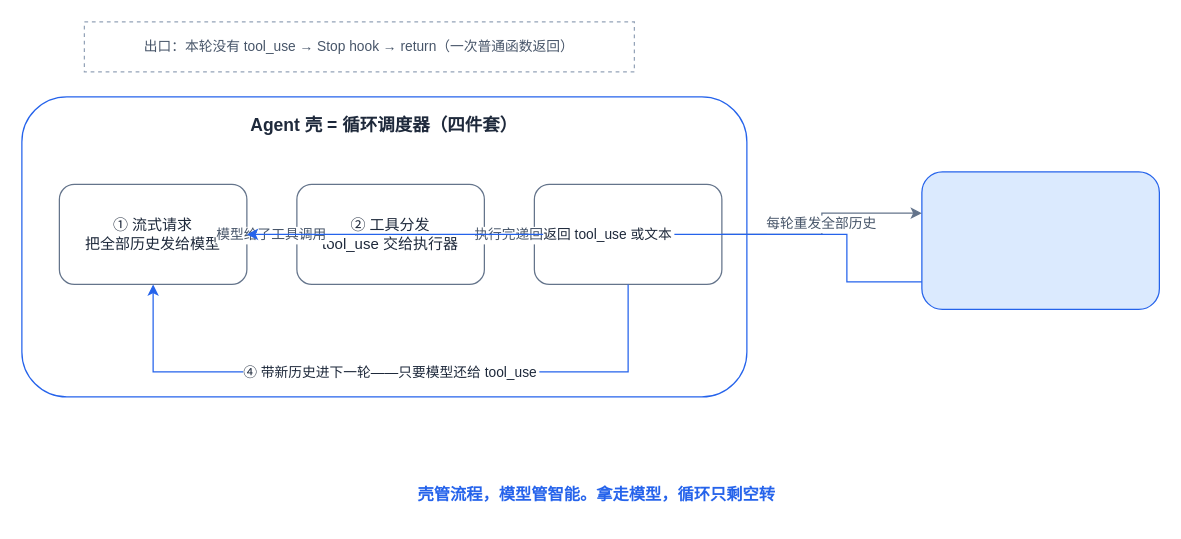
This 1181x539 diagram has some shape labels left out. The box of each missing label's shape, as (x1, y1, x2, y2) in pixels:
③ 结果回填 tool_result 进历史: (533, 183, 722, 284)
大模型（无状态） 不记得上一轮 每次凭请求行李工作: (921, 171, 1159, 309)
